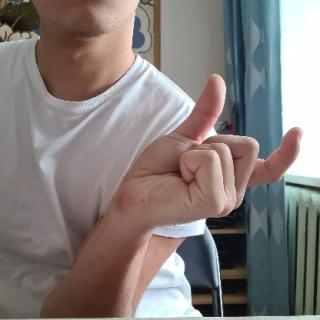NOON: (107, 70, 309, 234)
